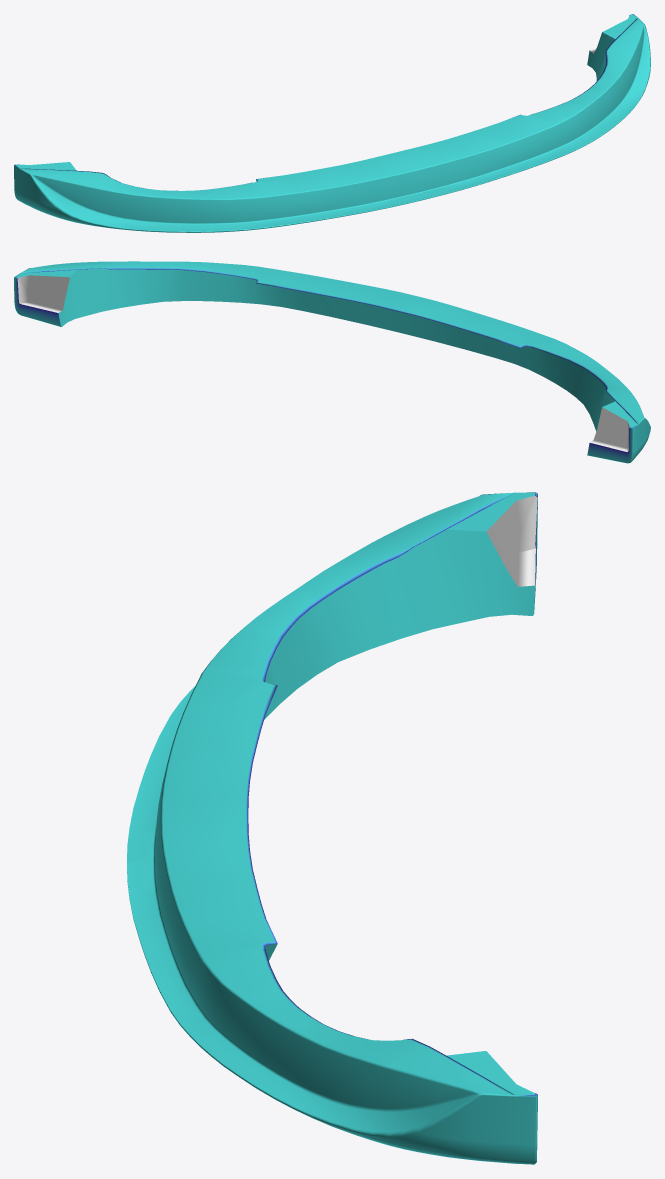
File: Car_Mini_CountrymanJCW_2017_Splitter_SetD_AltJ.fbx
3 renders of one model, top to bottom at view 1: azimuth 30°, elevation 25°; view 2: azimuth 150°, elevation 25°; view 3: azimuth 270°, elevation 25°, orthographic. The views are drawn at different scales.
Parts seen in each view (by area): view 1: Splitter 6; view 2: Splitter 6; view 3: Splitter 6.
Boxes of the visible parts, <box> form: Splitter 6: <box>14,14,650,232</box>; Splitter 6: <box>14,261,650,463</box>; Splitter 6: <box>127,492,537,1164</box>.
Size of the model in its own units: 1.98 by 0.1245 by 0.5693.
